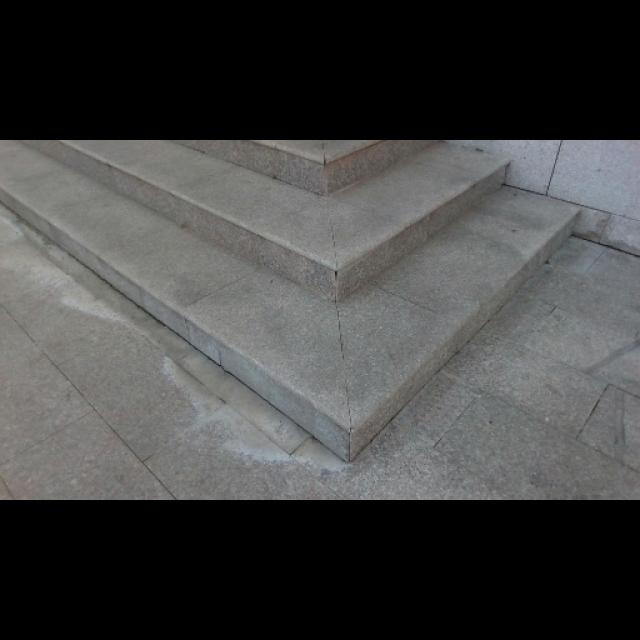Stairs: (0, 136, 582, 462)
